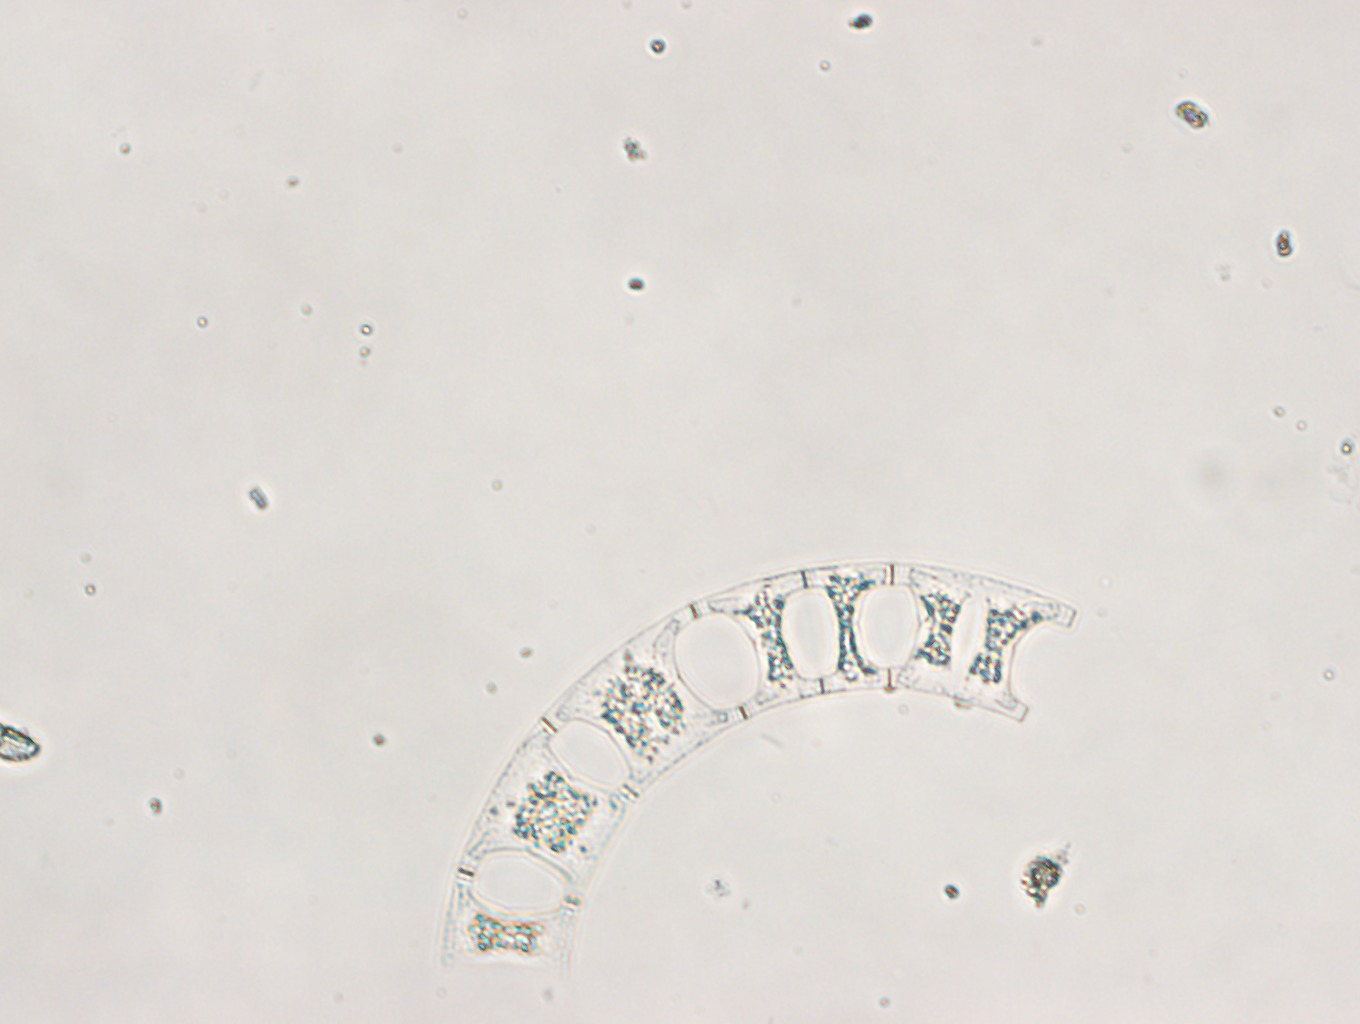eucampia: (440, 561, 1078, 975)
